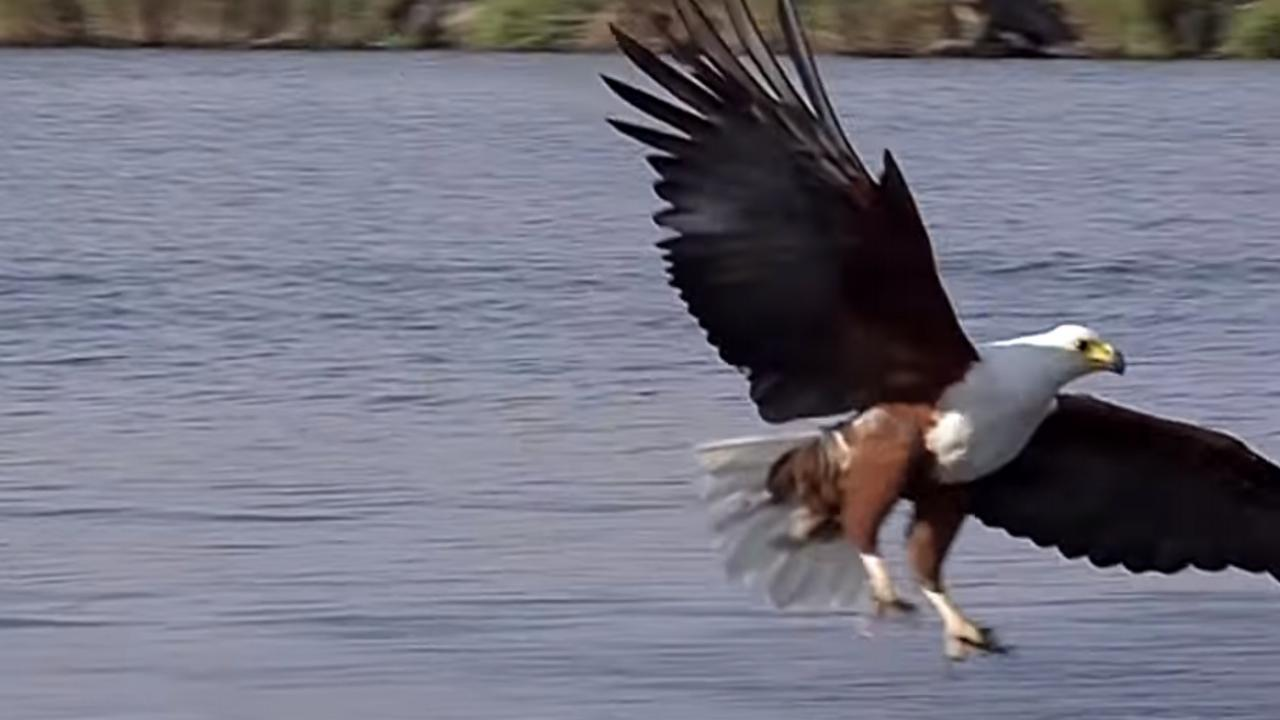Bird: (596, 0, 1280, 675)
